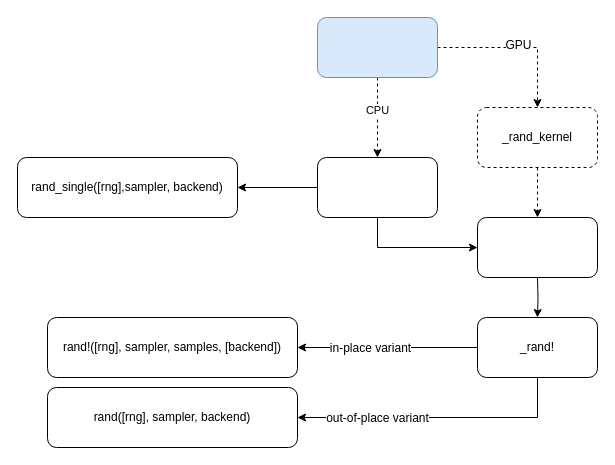
Image size: 615x465. Some labels were removed from this diagram. Here are the shapes that lost their labels. From the top down, the box of each, then its label:
(316, 16, 438, 78): AbstractSampler
(316, 156, 438, 218): _rand_single
(476, 216, 598, 278): _rand_on_device!
